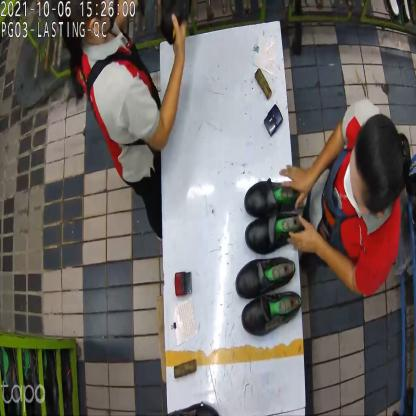shoes: (242, 258, 303, 333), (244, 180, 313, 241)
stamp: (173, 260, 194, 300), (263, 101, 285, 138)
